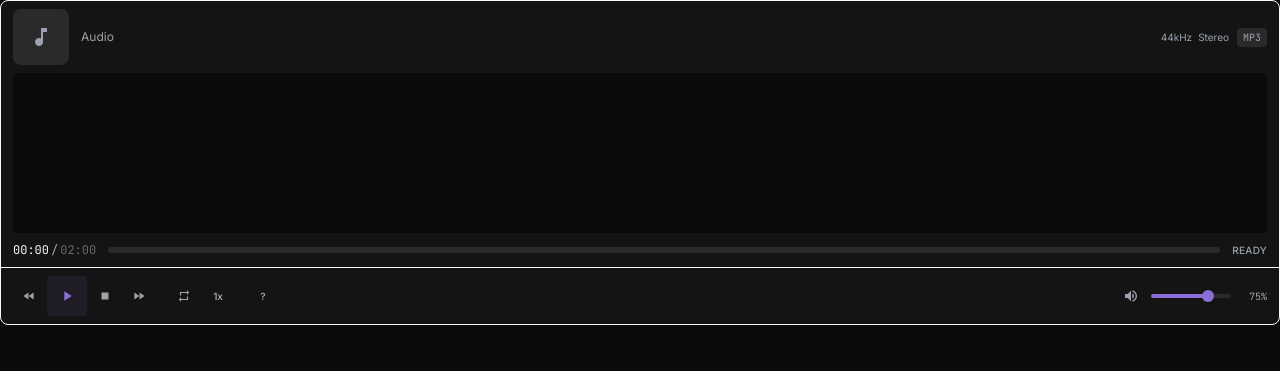
Test: AudioPlayer component › button interactions › clears play error on next successful play
Expected: the text "Ready" is shown, [1232,242,1267,258]
Click the button named "Play" at (67, 296), box [47,276,87,316]
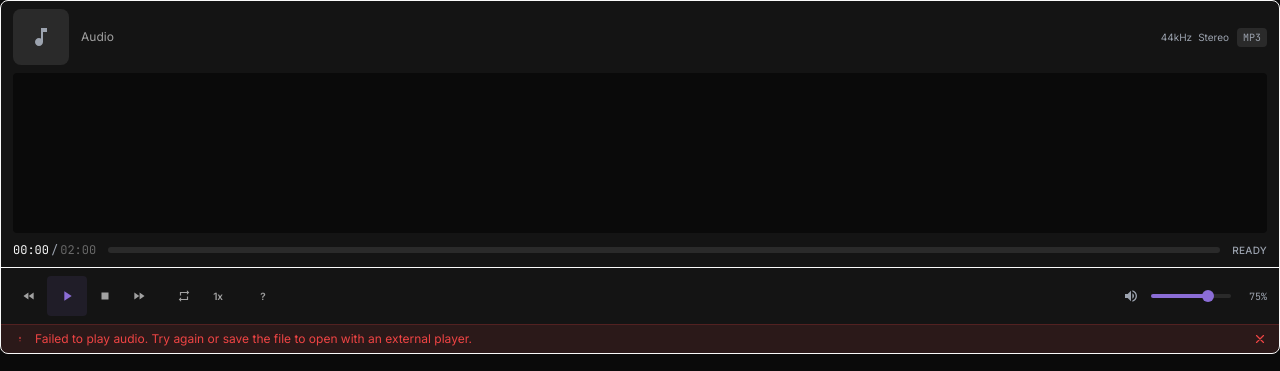
Expected: the message is shown, [1,324,1279,353]
Click the button named "Play" at (67, 296), box [47,276,87,316]
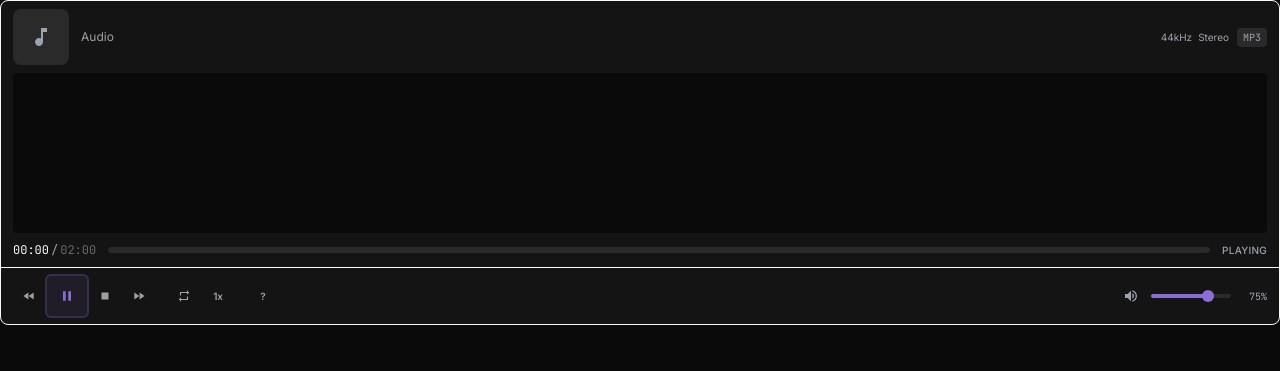
Expected: the message is gone
